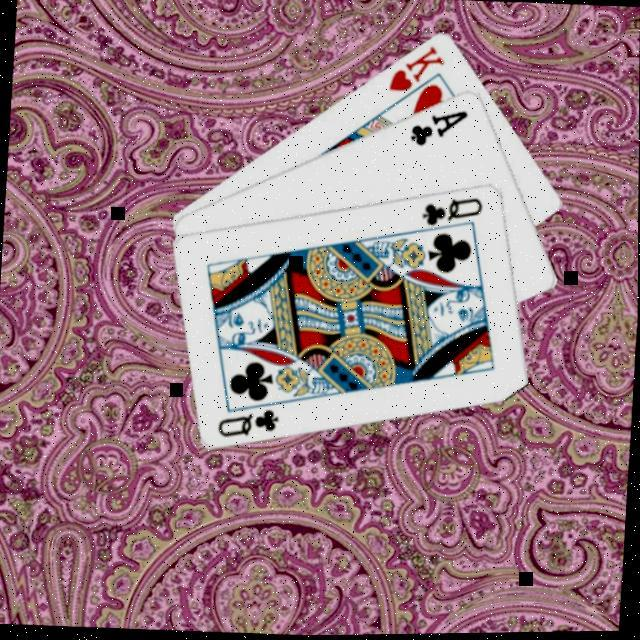AC: (408, 104, 472, 152)
KH: (386, 40, 450, 98)
QC: (418, 190, 488, 232), (216, 402, 284, 442)
